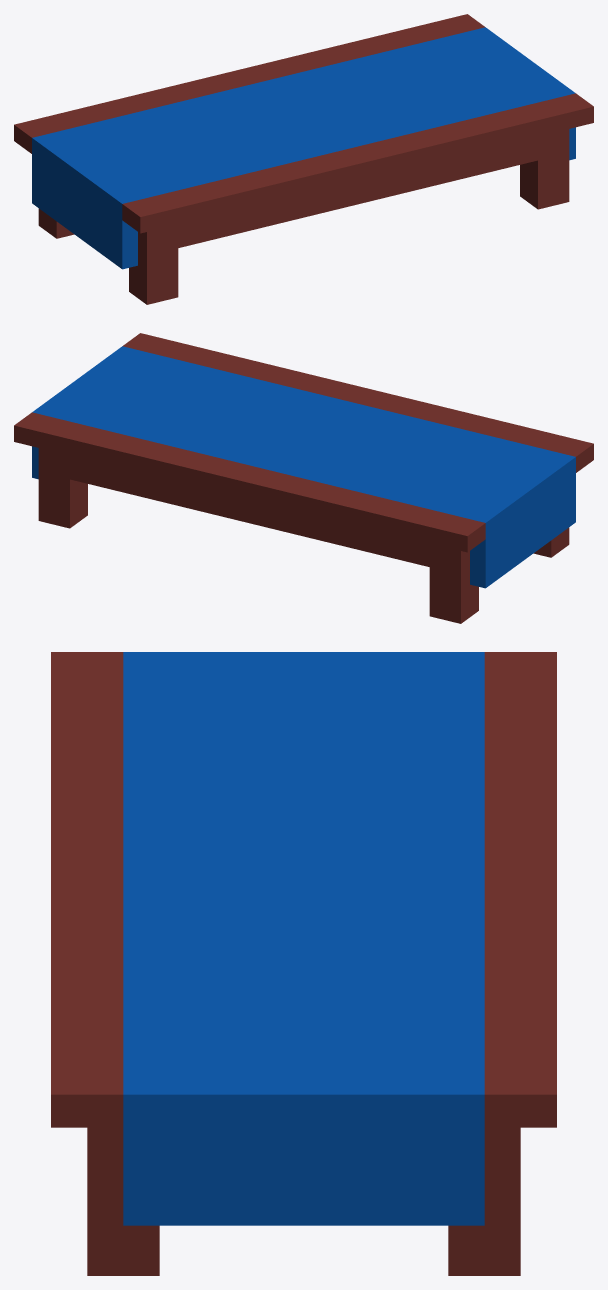
Rendered from large_table_b_blue.obj.
The picture shows the model from 3 angles, top to bottom: view 1: azimuth 30°, elevation 25°; view 2: azimuth 150°, elevation 25°; view 3: azimuth 270°, elevation 25°; orthographic projection. The views are drawn at different scales.
Bounding box in the file's own units: 2.9 × 0.6 × 1.4.
1 material, 1 textured.
